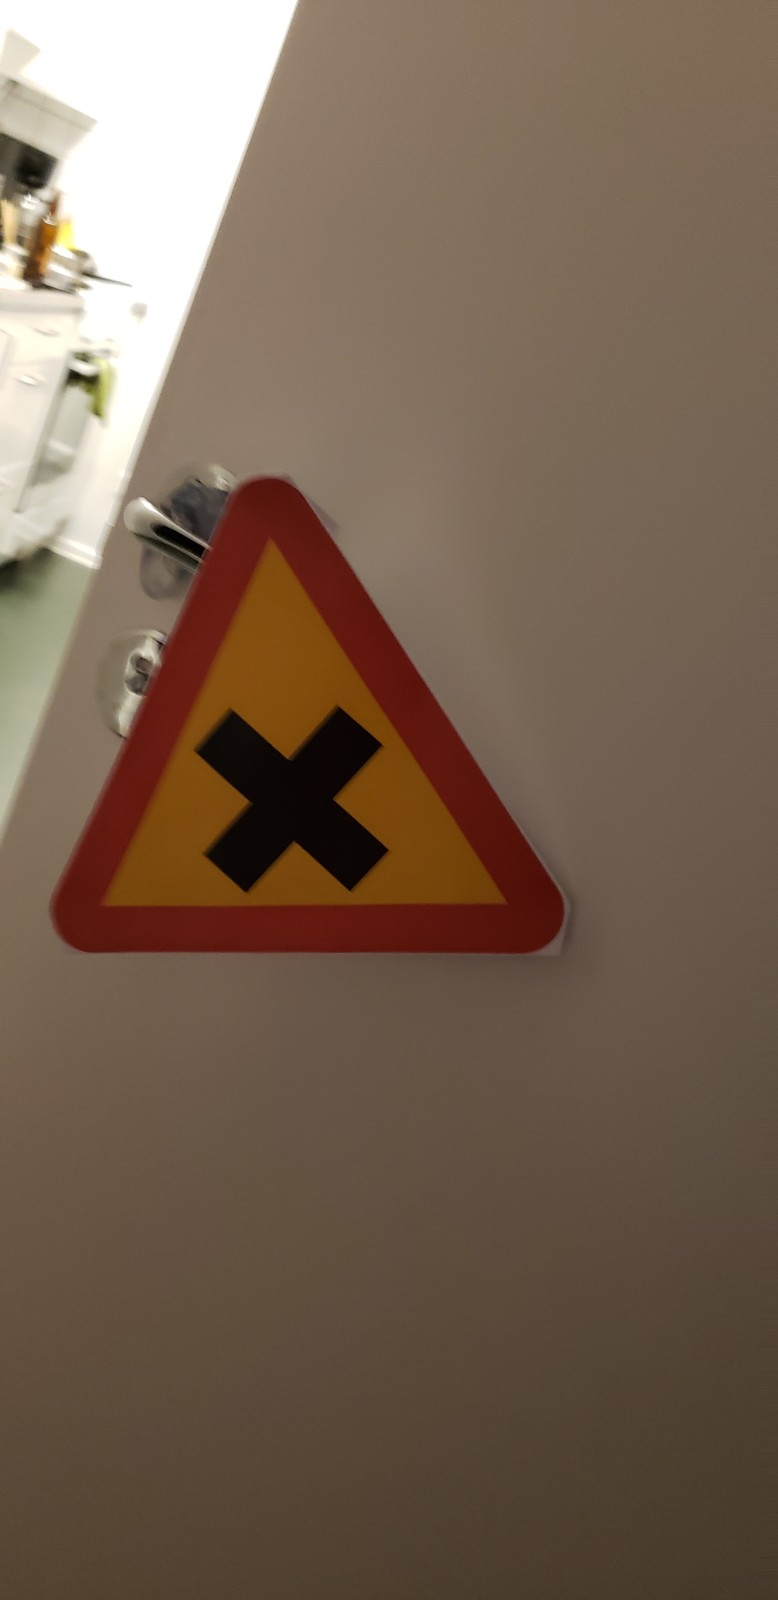junction: (93, 418, 607, 1046)
